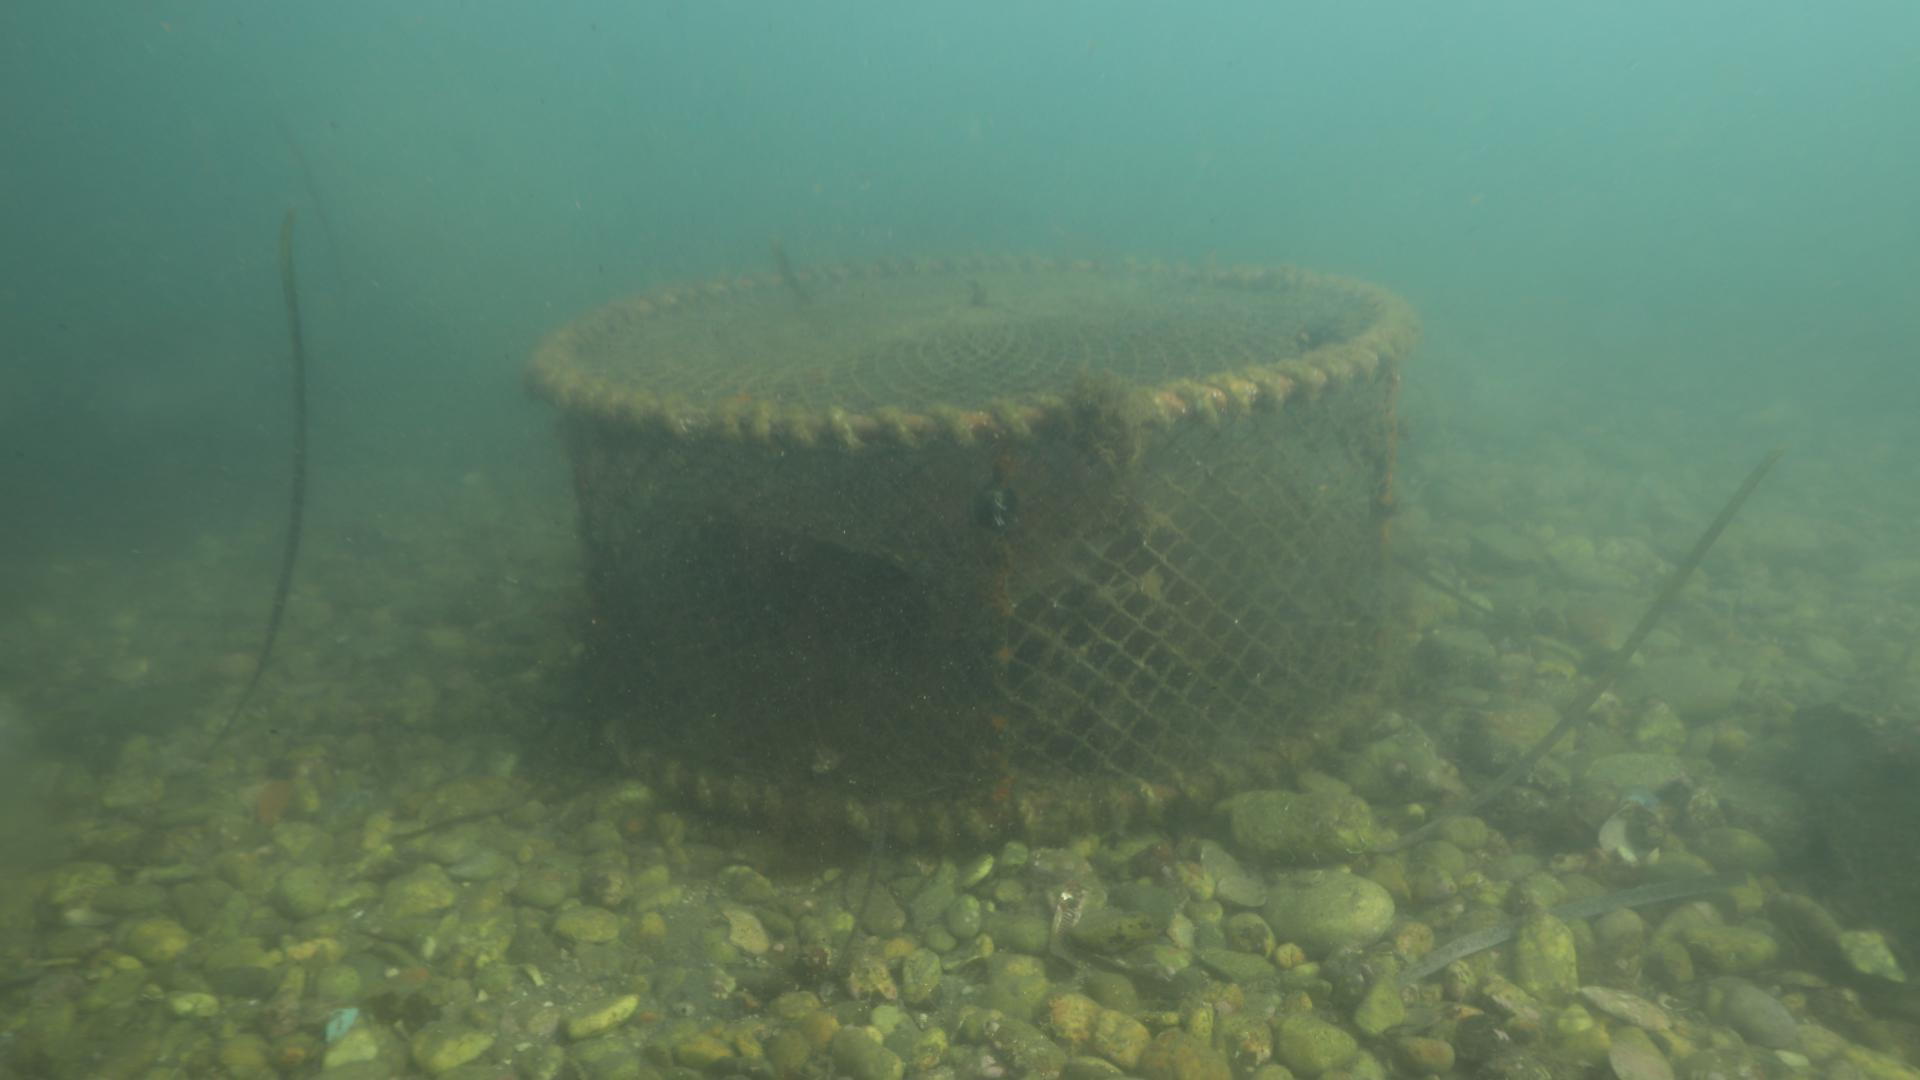circular fish trap: (524, 251, 1416, 843)
